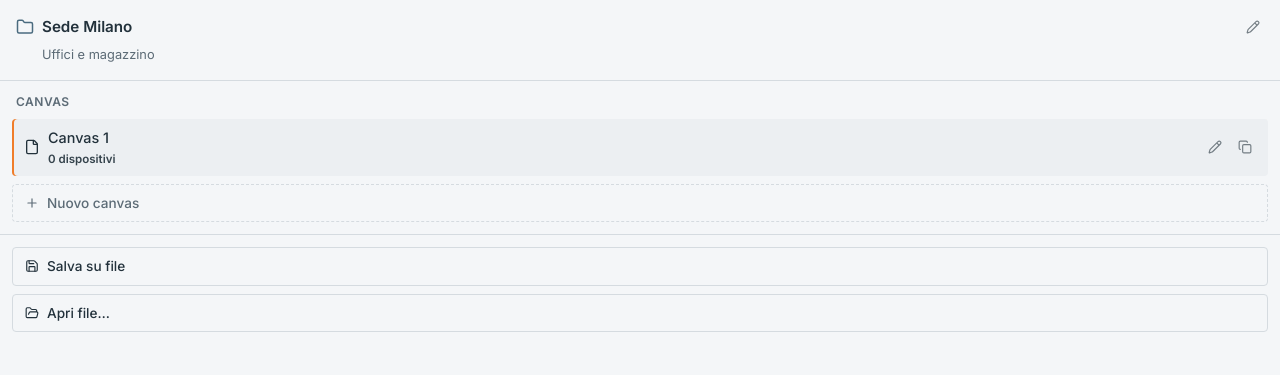
Scenario: ExplorerPanel › project › renames the project in place: Enter confirms
Click the button named "Rinomina progetto".
click(1253, 27)  # box [1242,16,1264,38]
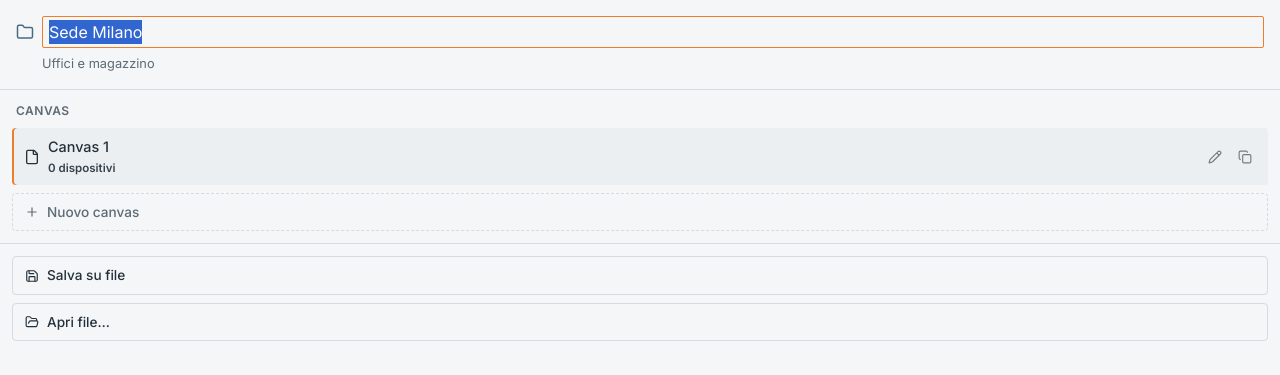
Now the field named "Nome del progetto" holds "Sede Milano"
Replace the text in the field named "Nome del progetto" with "Sede Torino" at (653, 32), box [42,16,1264,48]
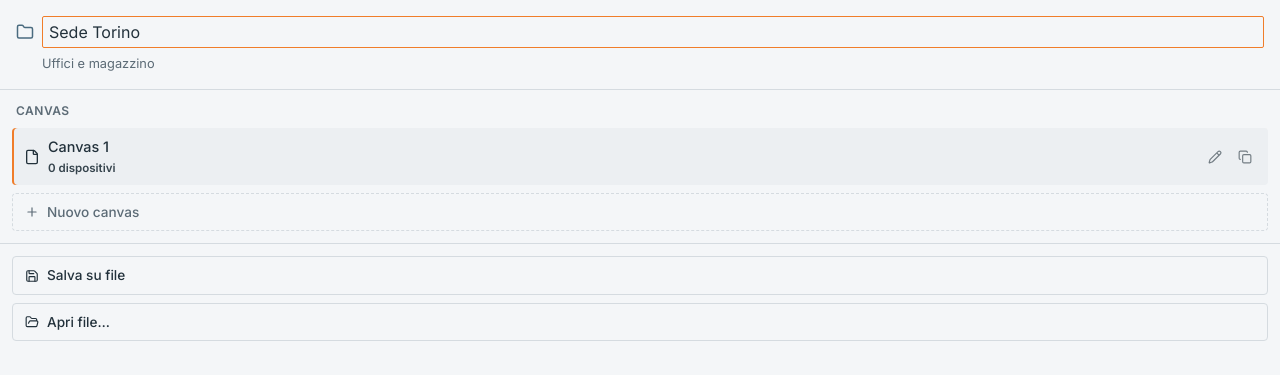
Press Enter in the field named "Nome del progetto", box [42,16,1264,48]
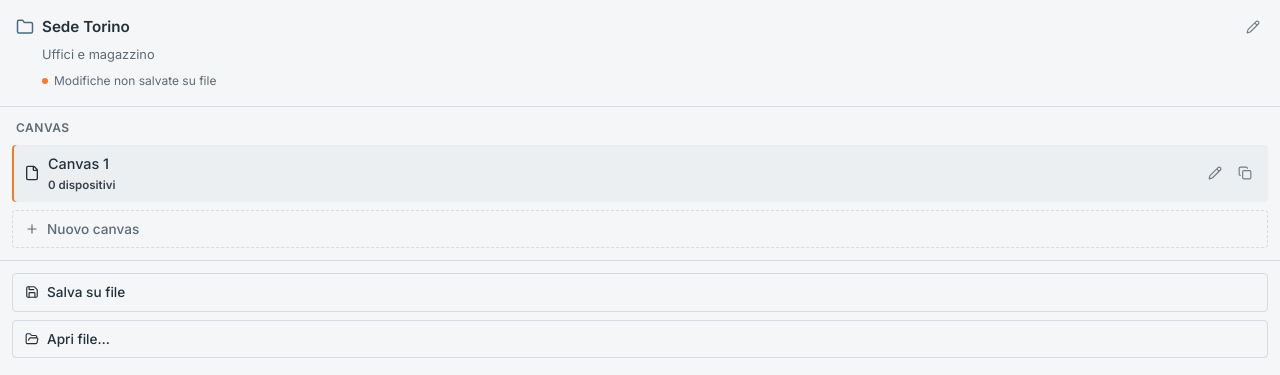
Now the text "Sede Torino" is shown, box [42,17,130,36]
